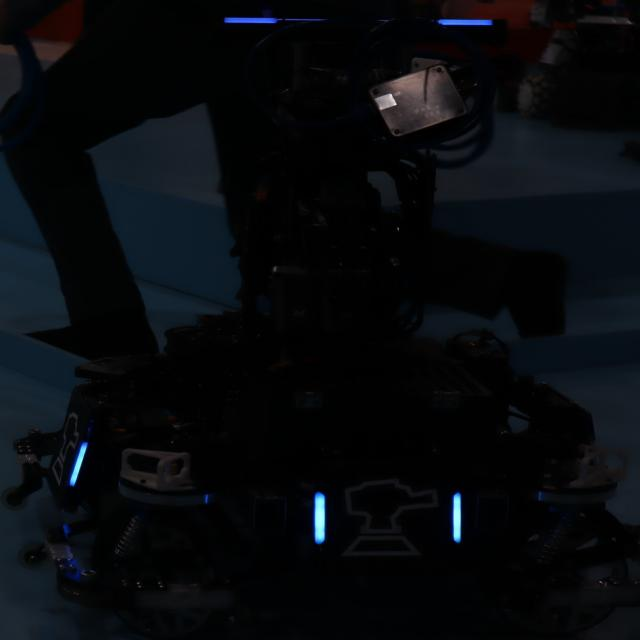Bs: (311, 477, 469, 561), (49, 403, 93, 495)
